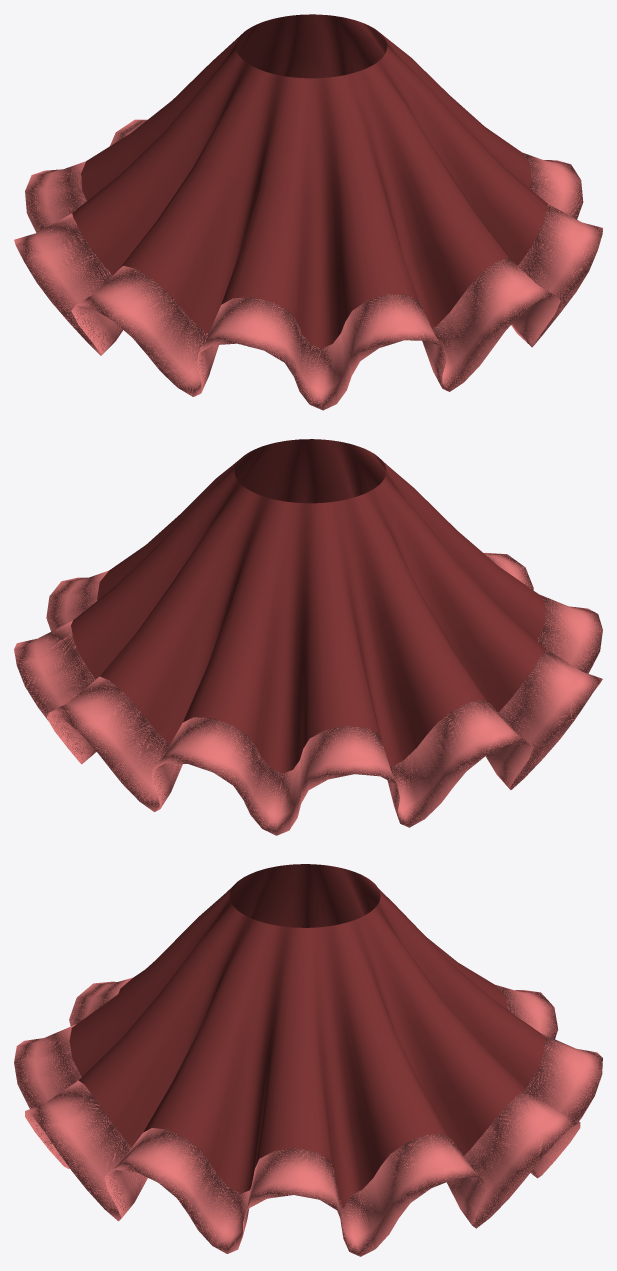
Rendered from Skirt 1.fbx.
3 views of the same model, one above another, from view 1: azimuth 30°, elevation 25°; view 2: azimuth 150°, elevation 25°; view 3: azimuth 270°, elevation 25° (orthographic).
Parts seen in each view (by area): view 1: skirt; view 2: skirt; view 3: skirt.
Part boxes in pixels (x1,y1,x2,y2): skirt: [14, 14, 602, 410]; skirt: [14, 439, 602, 835]; skirt: [14, 864, 602, 1256].
Size of the model in its own units: 473 by 234 by 475.
